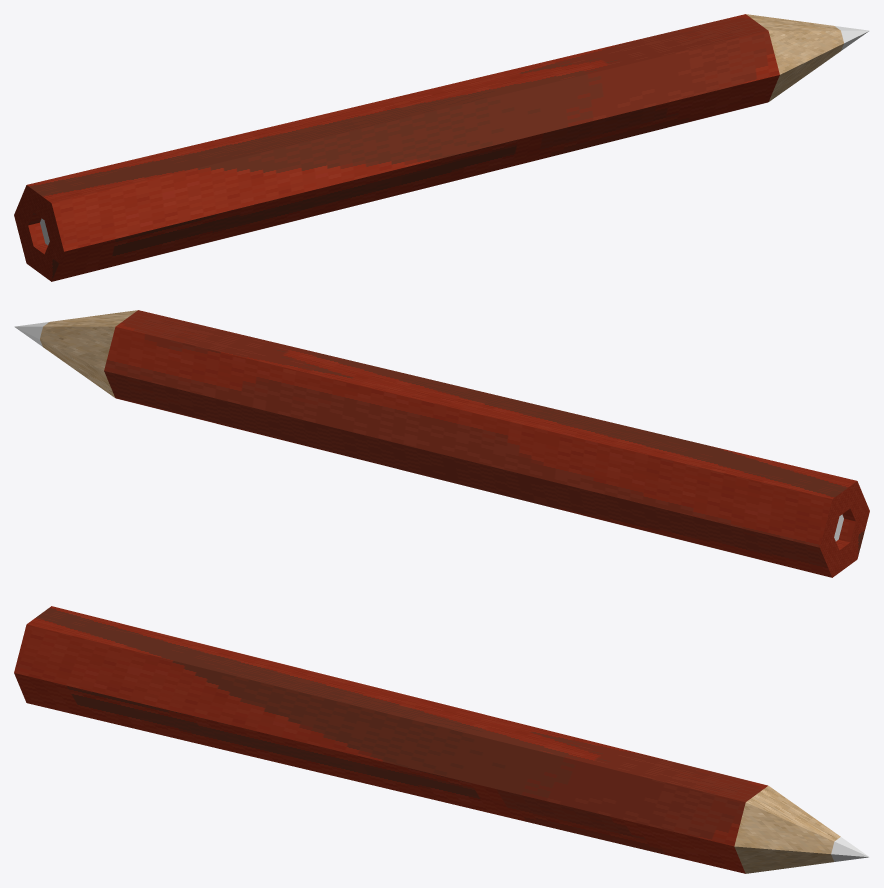
Rendered from Matita_4_rosso.fbx.
The picture shows the model from 3 angles, top to bottom: view 1: azimuth 30°, elevation 25°; view 2: azimuth 150°, elevation 25°; view 3: azimuth 330°, elevation 25°; orthographic projection.
Parts seen in each view (by area): view 1: Cylinder.010; view 2: Cylinder.010; view 3: Cylinder.010.
Part boxes in pixels (x1,y1,x2,y2): Cylinder.010: [14, 14, 869, 281]; Cylinder.010: [14, 310, 869, 577]; Cylinder.010: [14, 606, 869, 873].
Size of the model in its own units: 0.0355 by 0.00321 by 0.00371.
3 materials, 2 textured.
